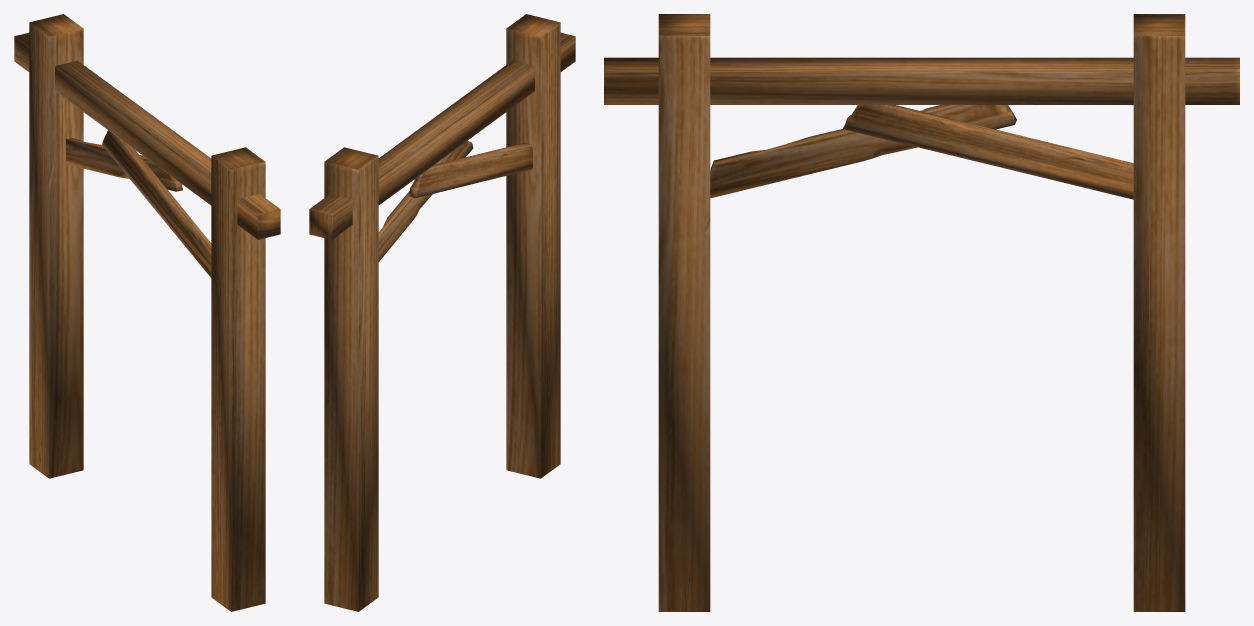
The model's file is wooden_gate.fbx.
3 renders of one model, left to right at view 1: azimuth 30°, elevation 25°; view 2: azimuth 150°, elevation 25°; view 3: azimuth 270°, elevation 25°, orthographic. The views are drawn at different scales.
Visible parts, largest first — view 1: wooden_gate; view 2: wooden_gate; view 3: wooden_gate.
Part boxes in pixels (x1,y1,x2,y2): wooden_gate: (14, 14, 280, 611); wooden_gate: (309, 14, 575, 611); wooden_gate: (604, 14, 1239, 611).
Size of the model in its own units: 0.3269 by 4.02 by 4.02.
